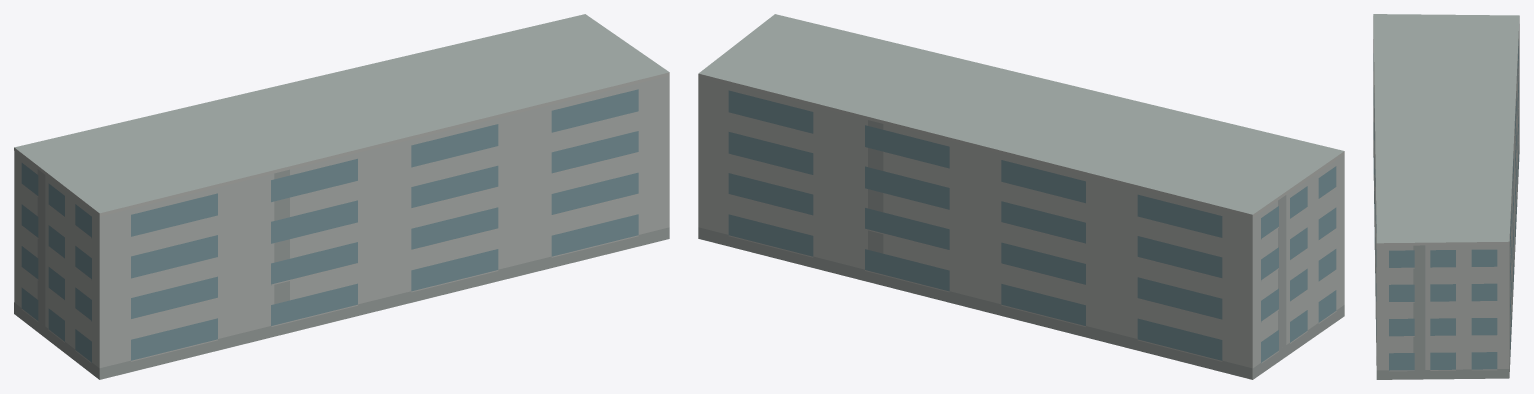
File: residential-97c35d86-6552-495f-ab76-d2c41c00ba94.glb
3 views of the same model, side by side, from view 1: azimuth 30°, elevation 25°; view 2: azimuth 150°, elevation 25°; view 3: azimuth 270°, elevation 25° (orthographic). The views are drawn at different scales.
Visible parts, largest first — view 1: residential-97c35d86-6552-495f-ab76-d2c41c00ba94.tmp; view 2: residential-97c35d86-6552-495f-ab76-d2c41c00ba94.tmp; view 3: residential-97c35d86-6552-495f-ab76-d2c41c00ba94.tmp.
Part boxes in pixels (x1,y1,x2,y2): residential-97c35d86-6552-495f-ab76-d2c41c00ba94.tmp: (14, 14, 669, 379); residential-97c35d86-6552-495f-ab76-d2c41c00ba94.tmp: (698, 14, 1344, 379); residential-97c35d86-6552-495f-ab76-d2c41c00ba94.tmp: (1373, 14, 1519, 379).
Size of the model in its own units: 43.87 by 12.2 by 11.82.
